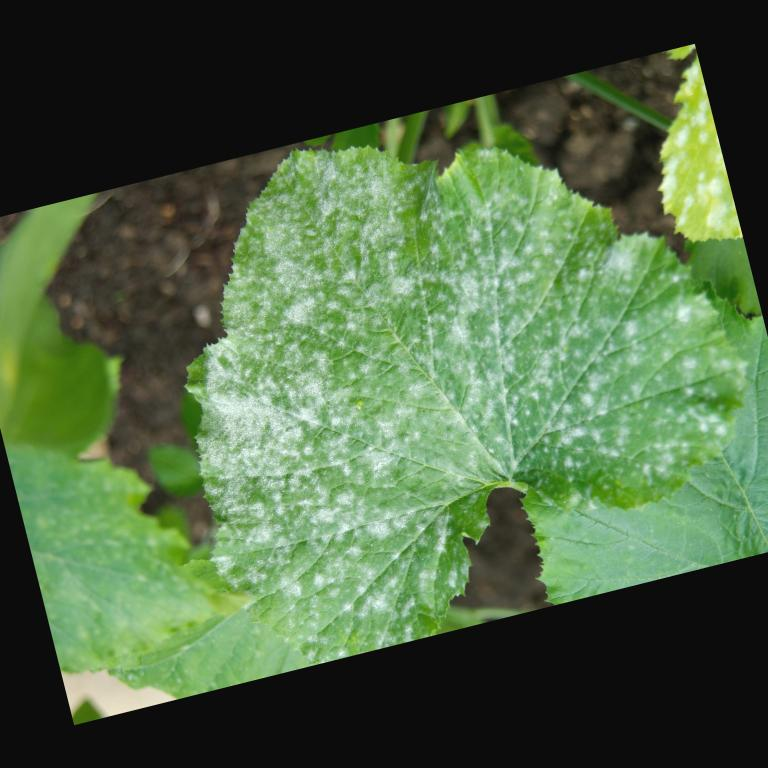powdery-mildew: (228, 228, 659, 532)
